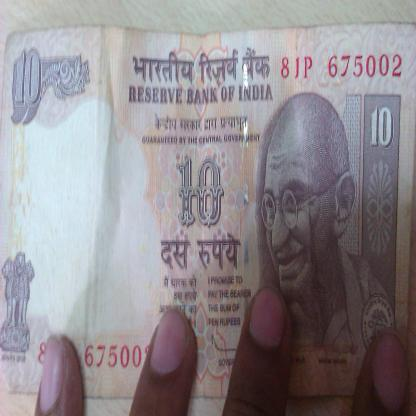Old10Front: (0, 25, 416, 416)
